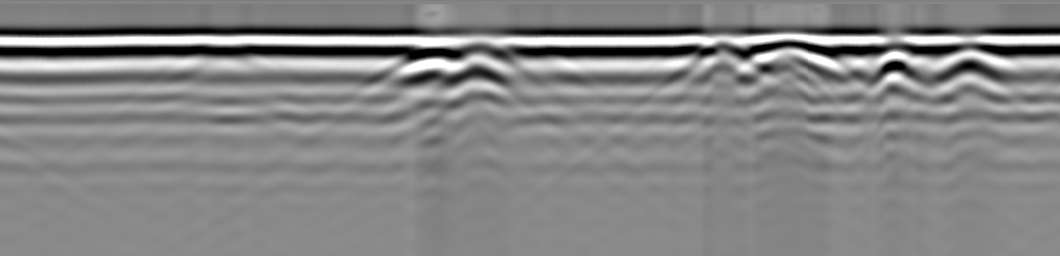pipe: (449, 39, 514, 85), (939, 41, 1012, 78), (761, 39, 835, 72), (877, 40, 920, 80), (701, 39, 748, 74)
